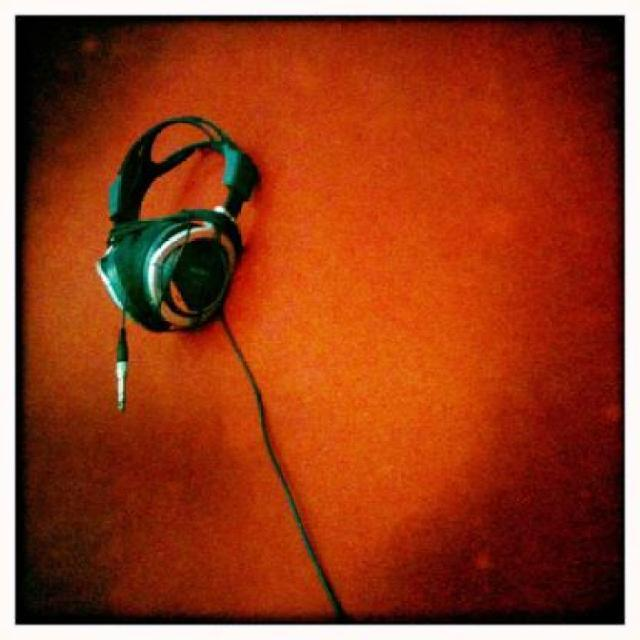earphone: (95, 91, 280, 426)
